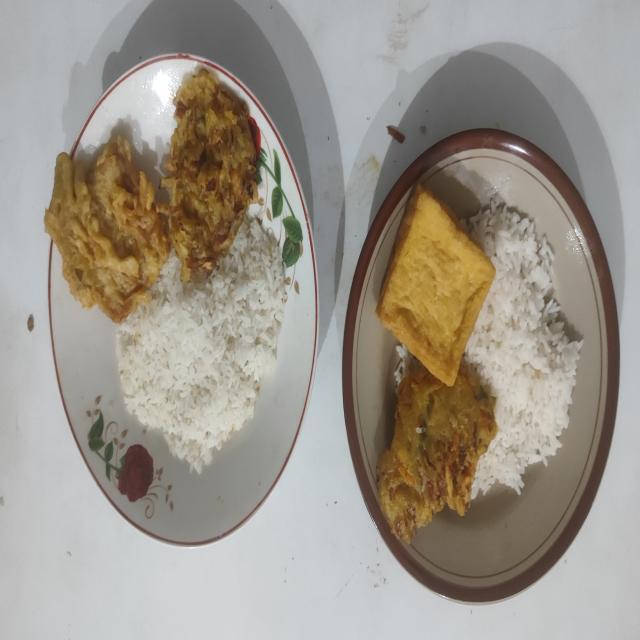nasi_putih: (116, 216, 290, 474), (464, 194, 583, 498)
tahu_goreng: (376, 184, 495, 386)
